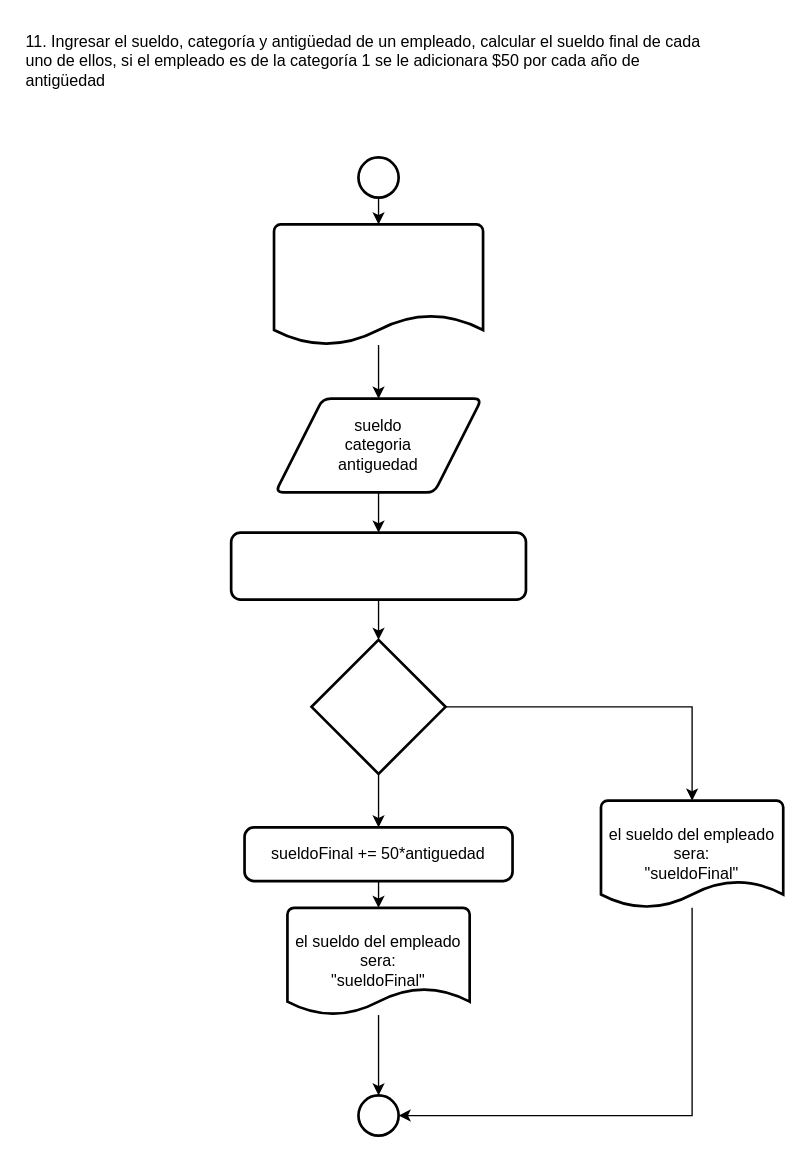
Image size: 807x1159. Some labels were removed from this diagram. The box of each missing label's shape, as (x1, y1, x2, y2) in pixels:
categoria==1: (310, 638, 446, 775)
ingrese el sueldo, categoria y antiguedad en años del empleado: (272, 222, 484, 346)
sueldoFinal= sueldo*antiguedad: (229, 531, 527, 600)
